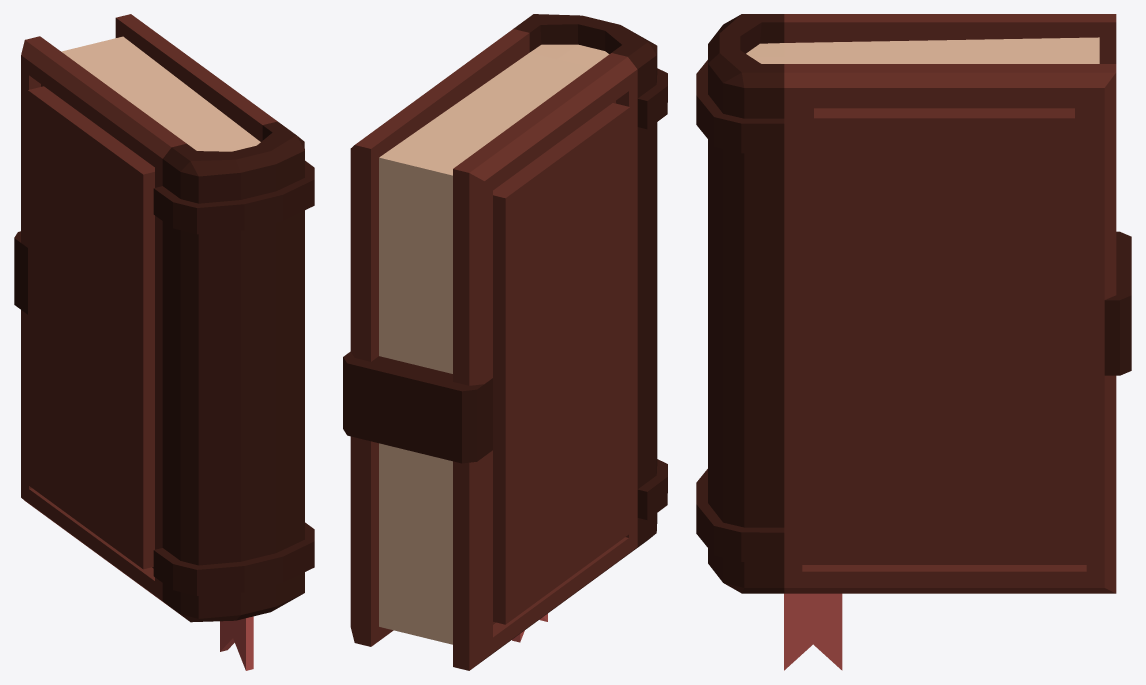
The model's file is Spellbook.glb.
3 renders of one model, left to right at view 1: azimuth 30°, elevation 25°; view 2: azimuth 150°, elevation 25°; view 3: azimuth 270°, elevation 25°, orthographic. The views are drawn at different scales.
Visible parts, largest first — view 1: Spellbook; view 2: Spellbook; view 3: Spellbook.
Part boxes in pixels (bbox=[...]): Spellbook: bbox=[14, 14, 314, 670]; Spellbook: bbox=[343, 14, 667, 670]; Spellbook: bbox=[696, 14, 1131, 670].
Bounding box in the file's own units: 14.36 × 52.26 × 33.7.
